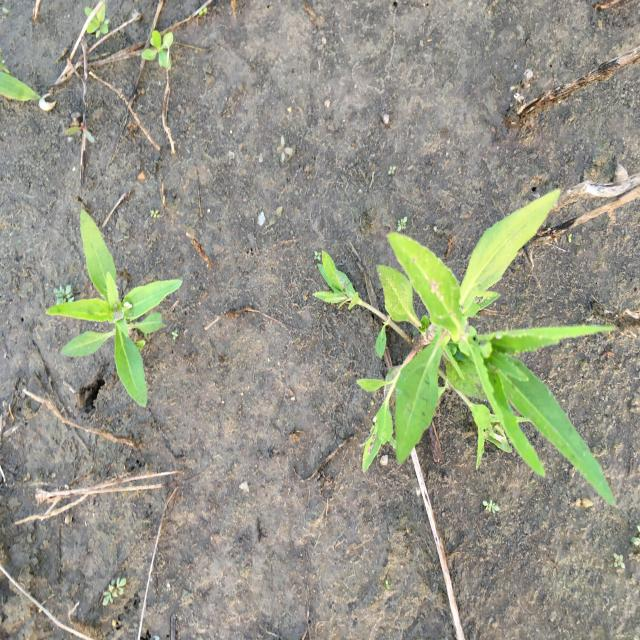Eclipta: (312, 189, 618, 511), (44, 206, 184, 409)
